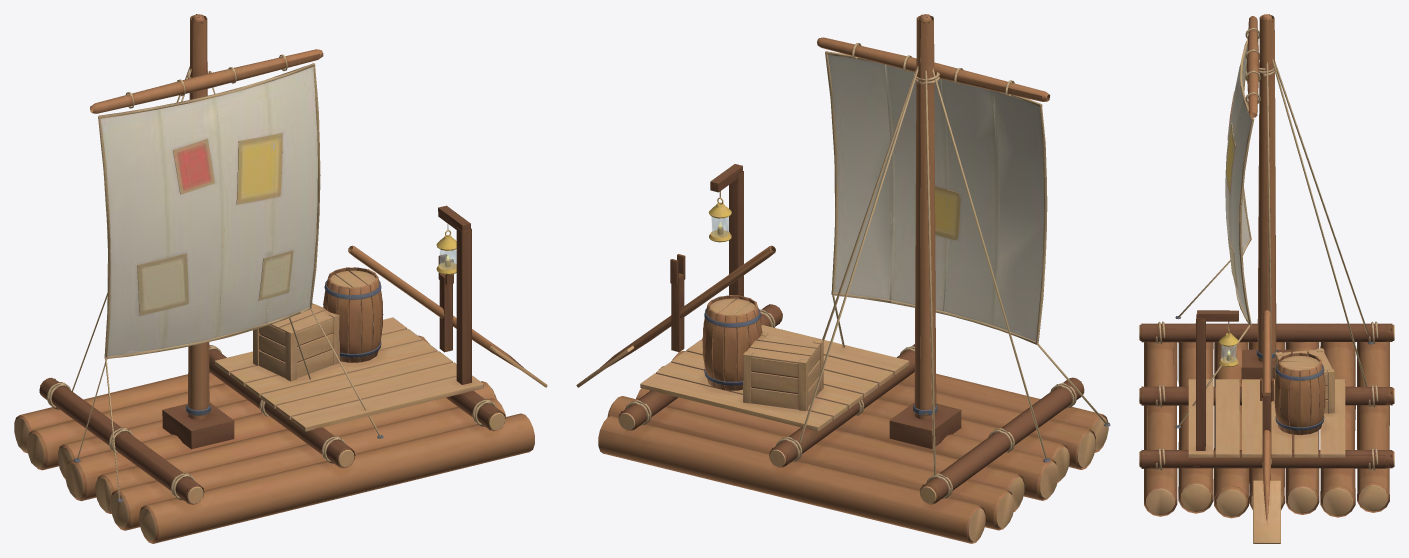
Rendered from balsa.glb.
3 renders of one model, left to right at view 1: azimuth 30°, elevation 25°; view 2: azimuth 150°, elevation 25°; view 3: azimuth 270°, elevation 25°, orthographic. The views are drawn at different scales.
Parts seen in each view (by area): view 1: pirate-raft_body; view 2: pirate-raft_body; view 3: pirate-raft_body.
Boxes of the visible parts, bbox=[...] form: pirate-raft_body: bbox=[14, 14, 547, 543]; pirate-raft_body: bbox=[576, 14, 1110, 543]; pirate-raft_body: bbox=[1139, 14, 1394, 543].
Size of the model in its own units: 3.72 by 3.4 by 2.02.
Materials: 4 (1 with a texture image).
